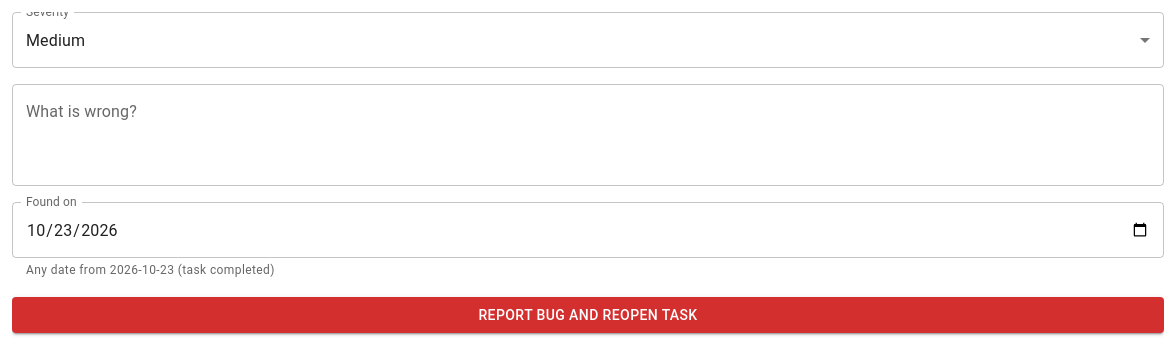
Test: BugReportForm › rejects a found date before the task was completed
Type "Totals are wrong" into the text box labelled "What is wrong?" at (588, 135), box left=26, top=100, right=1150, bottom=170
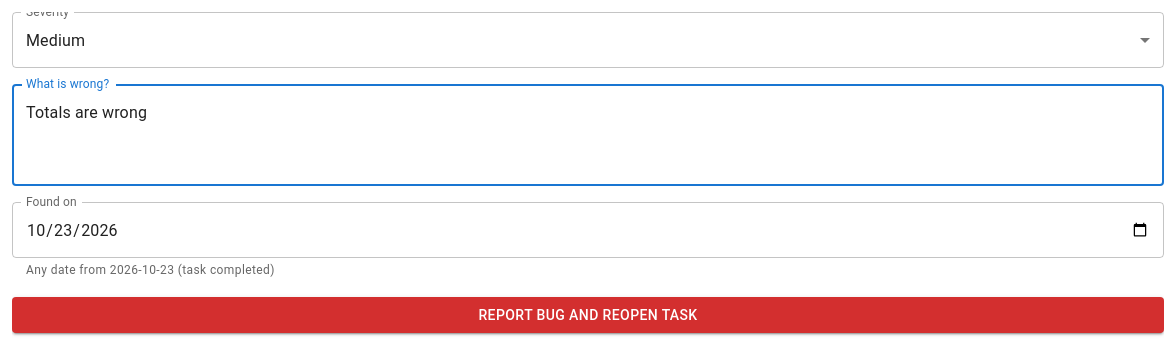
Type "2026-10-17" into the date field labelled "Found on" at (588, 230), box left=12, top=202, right=1164, bottom=258
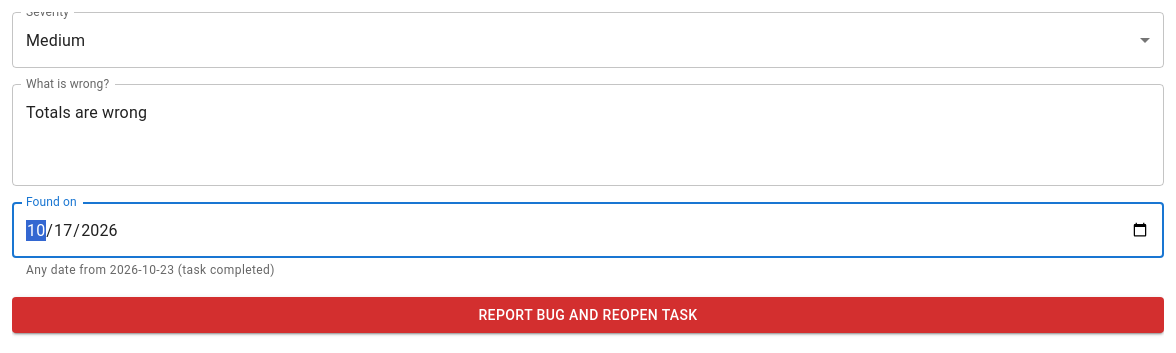
Click the button "Report bug and reopen task" at (588, 315), box left=12, top=297, right=1164, bottom=333
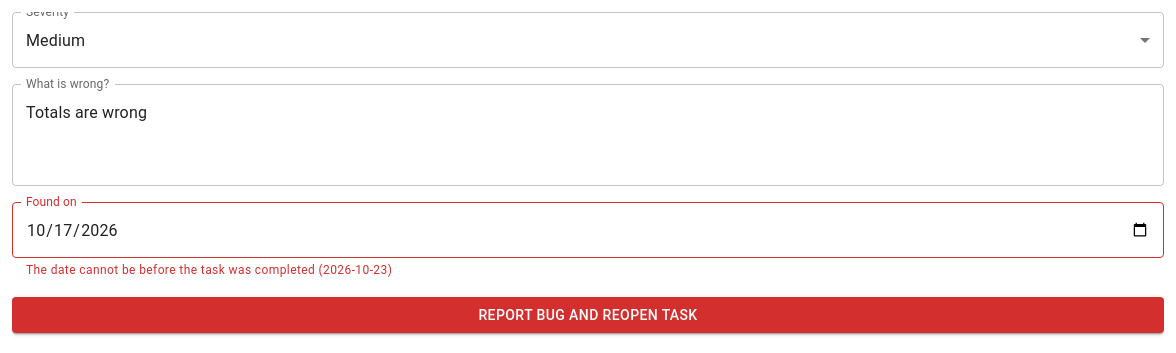
Expected: the text "The date cannot be before the task was completed (2026-10-23)" is shown, left=26, top=263, right=392, bottom=277
